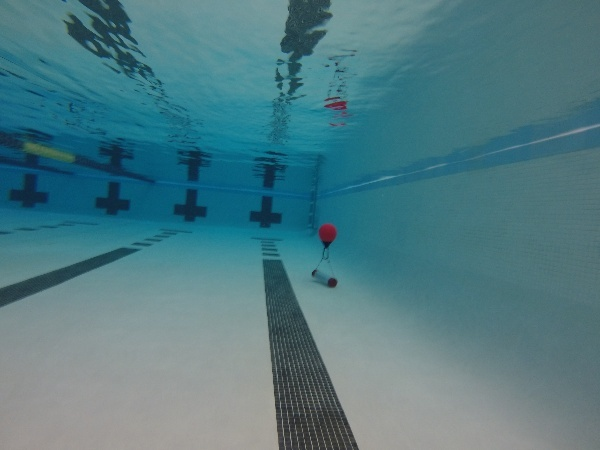buoy_red: (317, 221, 338, 249)
